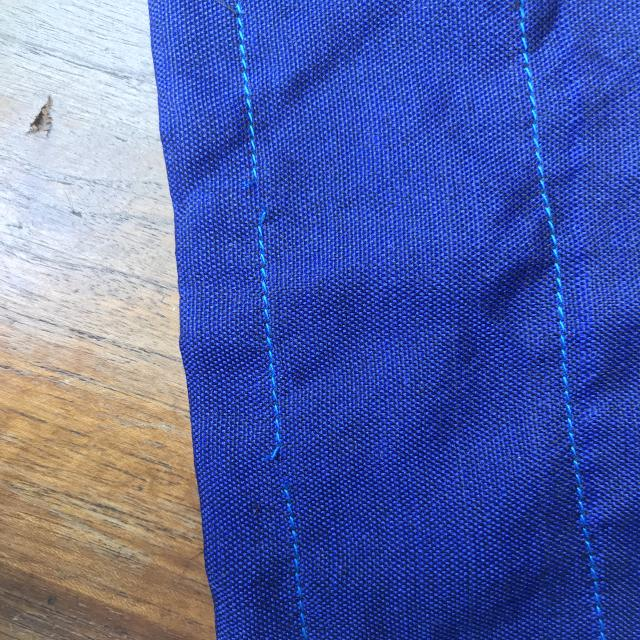broken: (256, 424, 309, 500), (236, 165, 288, 239)
good: (544, 257, 603, 396)
